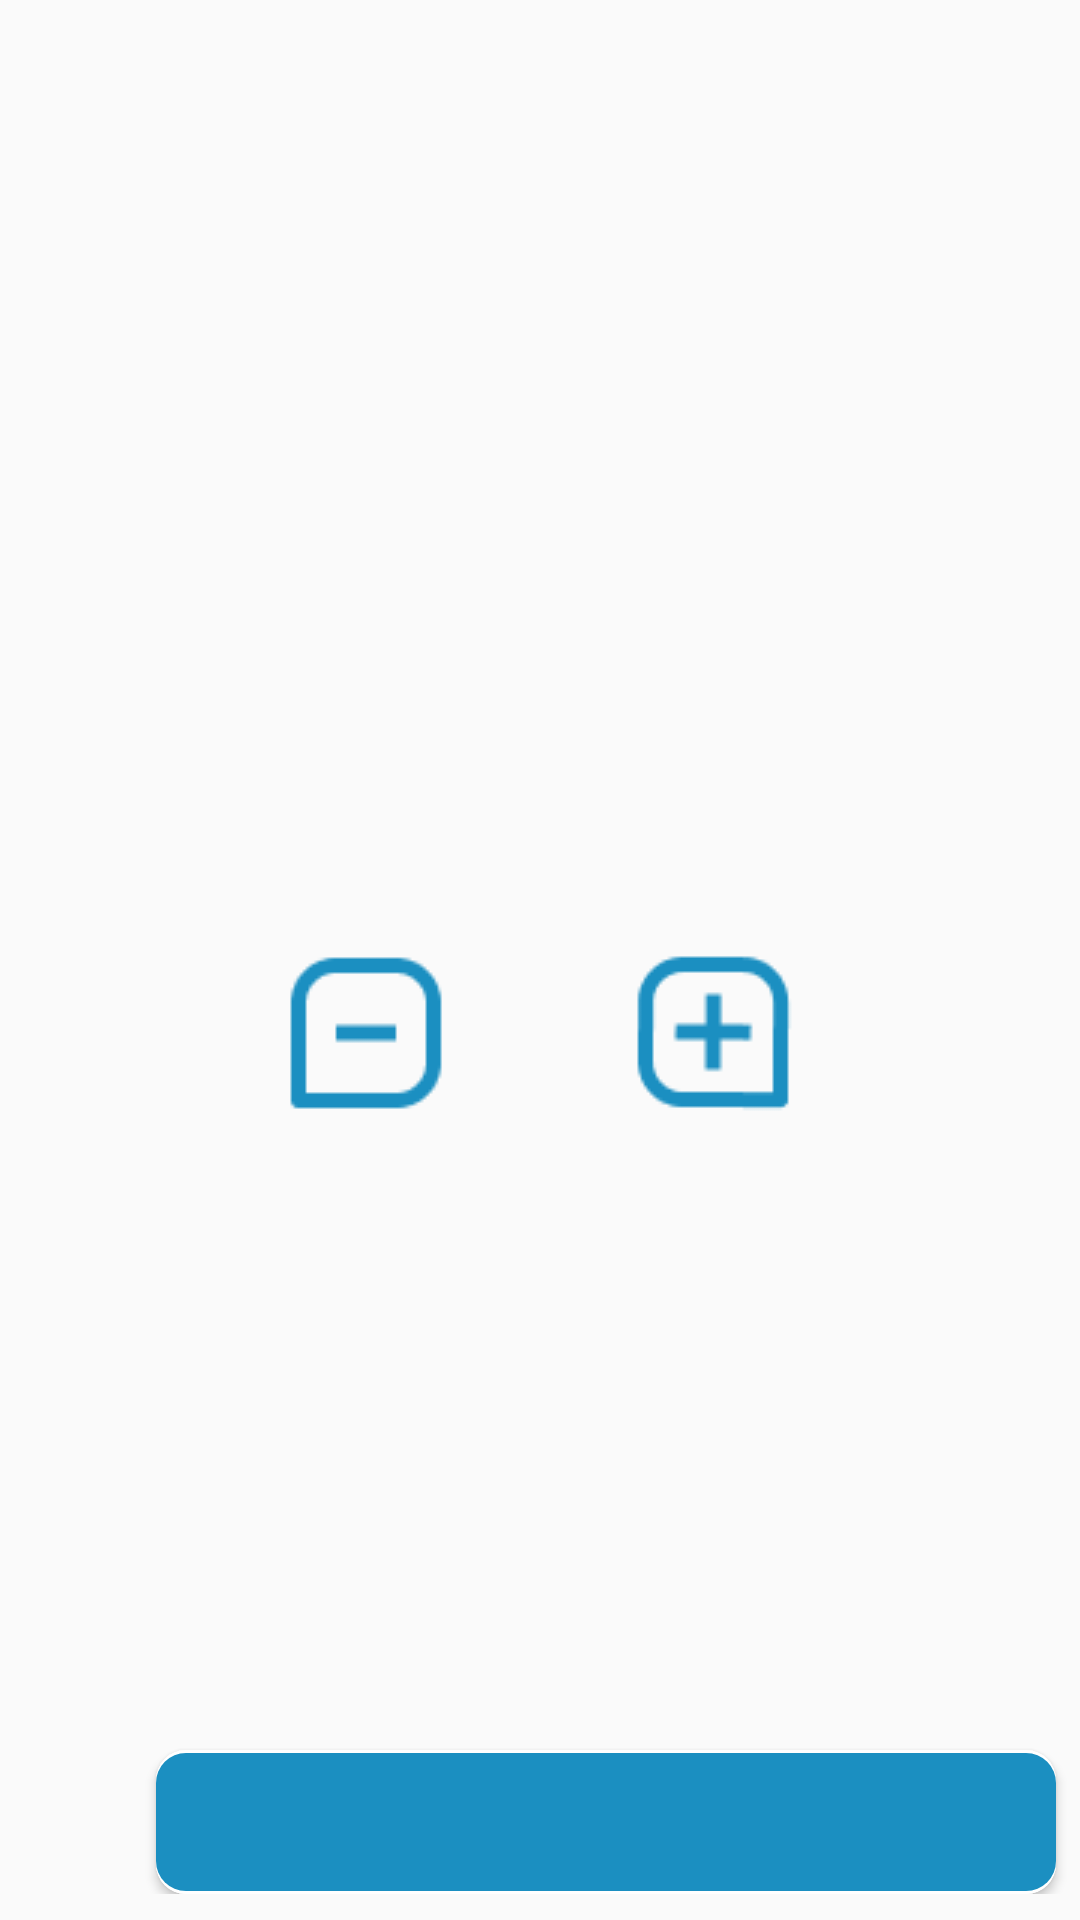

Locate icon controls on the screen. Image size 1080 x 1920, boxes as [x1=x1, y1=y1, x2=x2, y2=y2].
mas: [x1=637, y1=956, x2=790, y2=1109]
menos: [x1=290, y1=957, x2=442, y2=1109]
